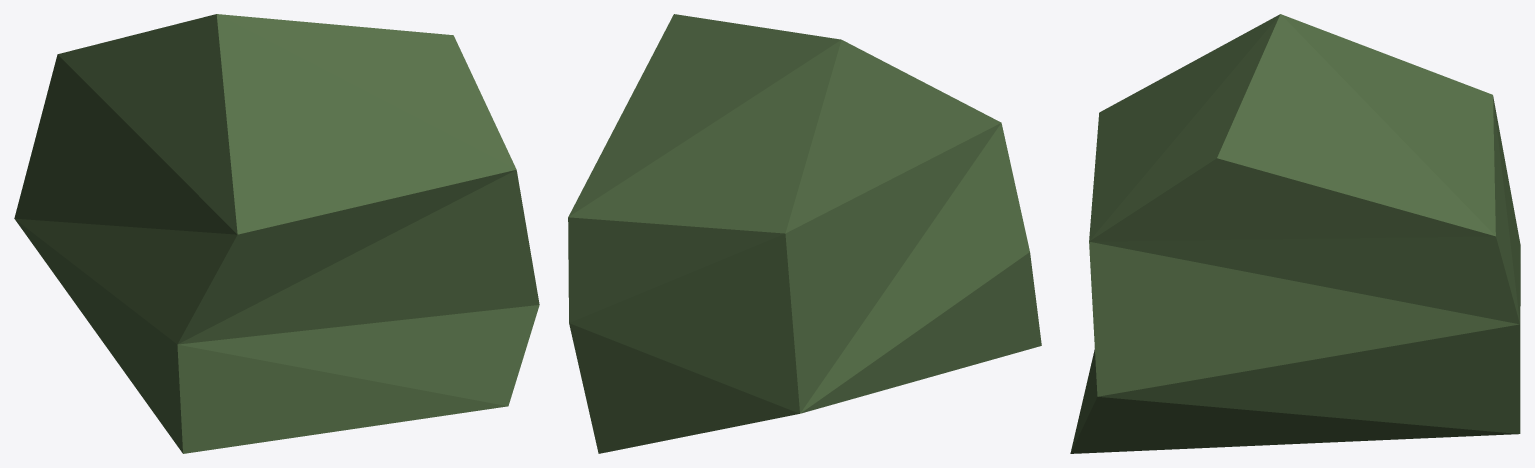
3 renders of one model, left to right at view 1: azimuth 30°, elevation 25°; view 2: azimuth 150°, elevation 25°; view 3: azimuth 270°, elevation 25°, orthographic. The views are drawn at different scales.
Parts seen in each view (by area): view 1: cube-045; view 2: cube-045; view 3: cube-045.
Part boxes in pixels (x1,y1,x2,y2): cube-045: (14, 14, 539, 453); cube-045: (568, 14, 1041, 453); cube-045: (1070, 14, 1520, 453).
Size of the model in its own units: 1.25 by 1.25 by 1.42.
